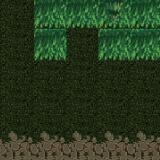Slow: (35, 0, 160, 28), (98, 29, 160, 60), (34, 28, 68, 61)
